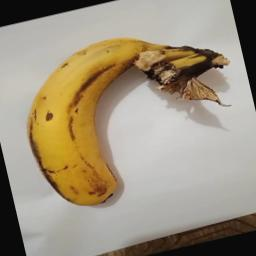Banana Unripe: (8, 7, 254, 220)
